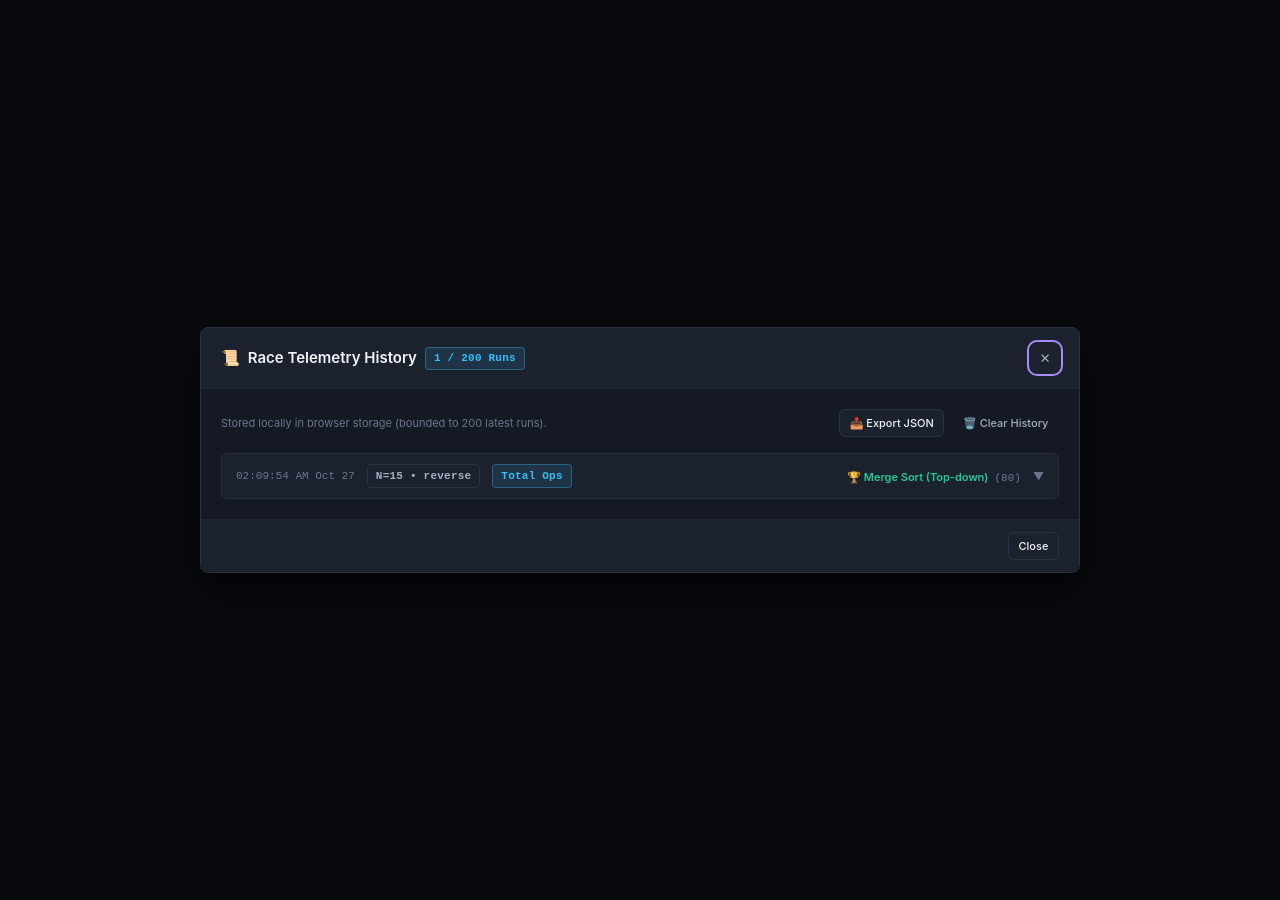
HistoryModal Component › handles clearing history with confirmation flow
Check: the text "N=15 • reverse" is shown, box [367,464,480,488]
Click the button "🗑️ Clear History" at [1006, 423], box [952,409,1059,437]
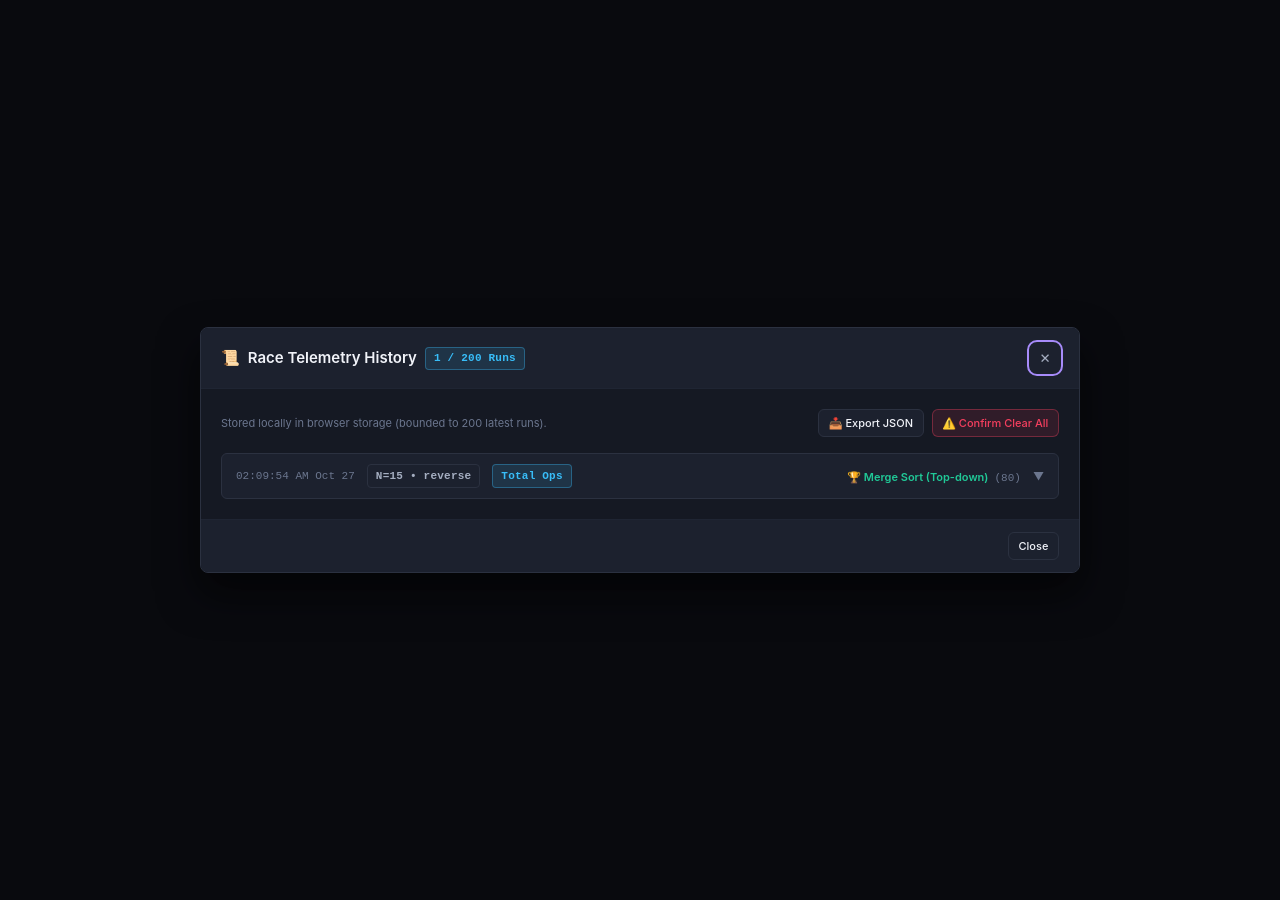
Check: the button "⚠️ Confirm Clear All" is shown
# Confirm click
Click the button "⚠️ Confirm Clear All" at [995, 423], box [932,409,1059,437]
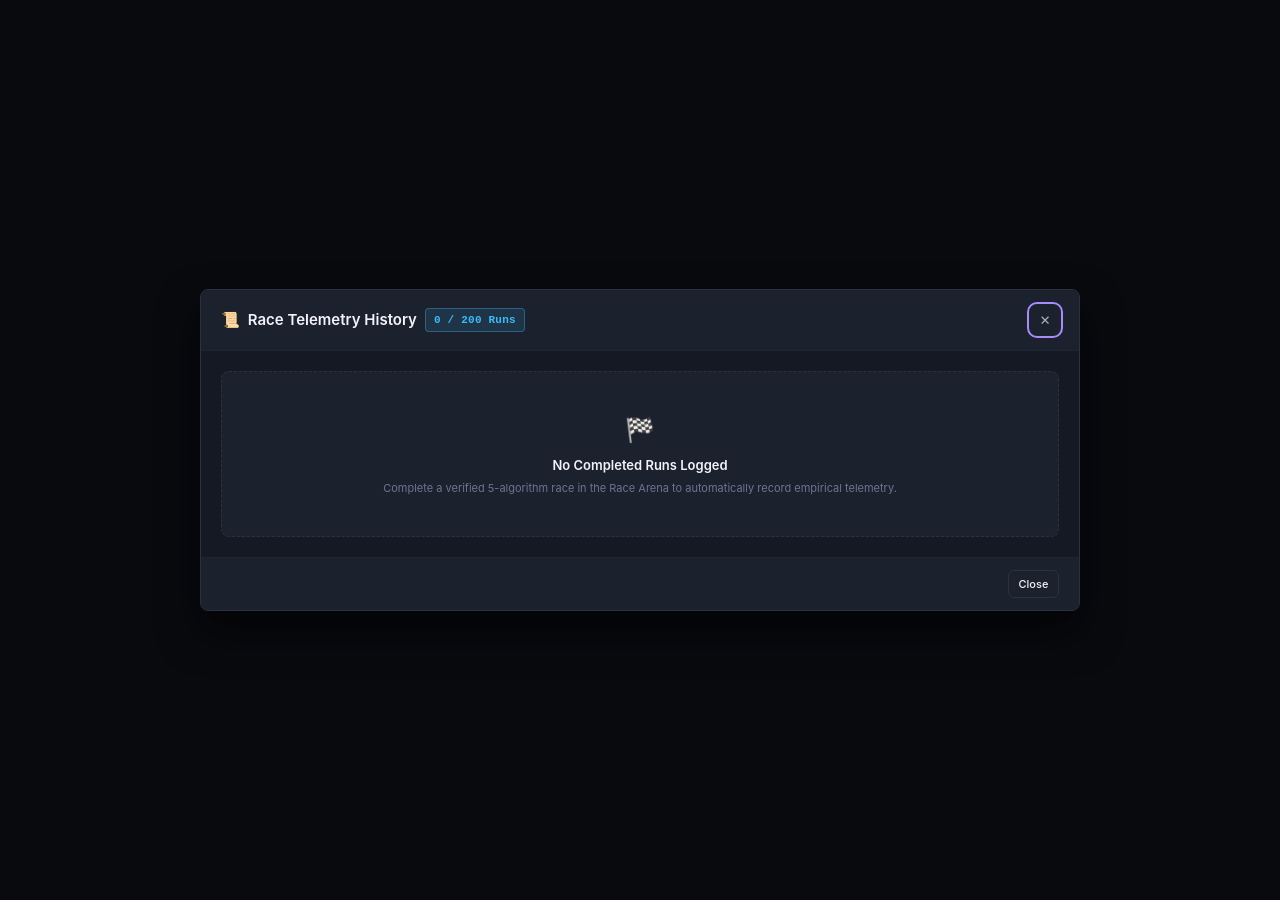
Check: the text "No Completed Runs Logged" is shown, box [552,457,728,473]
